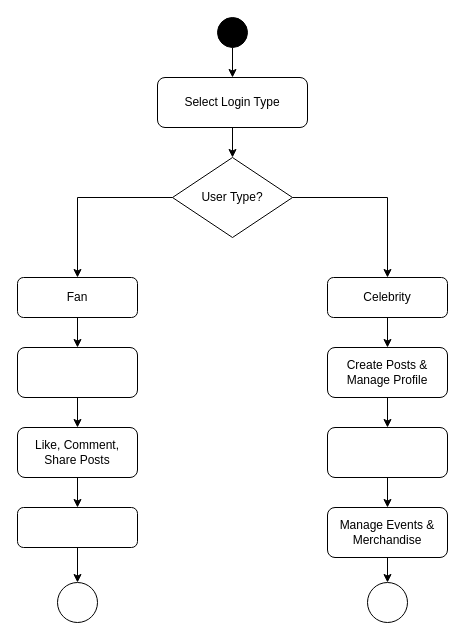
Some shapes in this 465 by 640 pixel diagram are drawn without their labels. Here are the shapes that lost their labels. From the top down, the box of each, then its label:
(16, 346, 138, 398): Browse Posts & Follow Celebrities
(326, 426, 448, 478): View Analytics & Earnings
(16, 506, 138, 548): Join Fan Clubs
